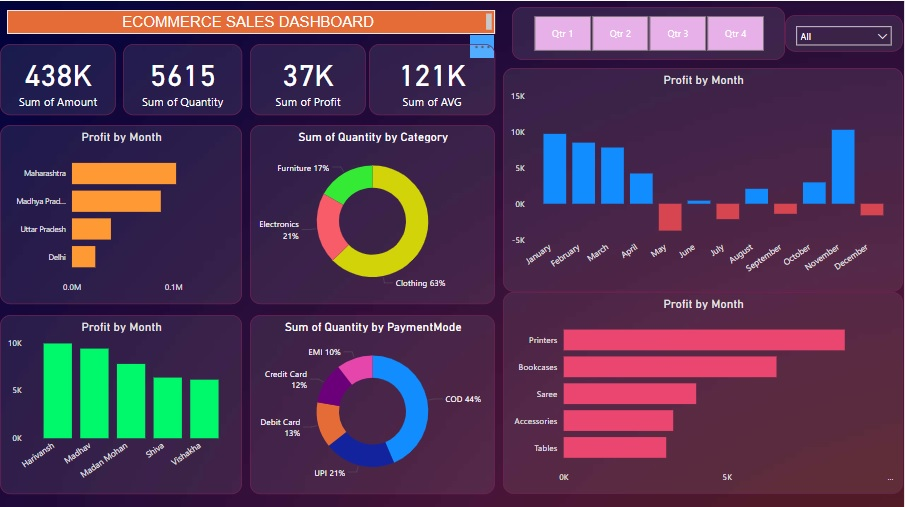

The dashboard page shown, as its layout file describes it:
{"tool":"powerbi","page":{"name":"Page 1","canvas":[1280,720],"ordinal":0},"visuals":[{"type":"textbox","box":[9.9,12.8,691.7,34],"z":0},{"type":"columnChart","title":"Profit by Month","fields":{"Category":["Orders.Order Date.Variation.Date Hierarchy.Month"],"Y":["Details.Profit"]},"box":[712.9,95,566.9,317.5],"z":1000},{"type":"barChart","title":"Profit by Month","fields":{"Y":["Details.Profit"],"Category":["Details.Sub-Category"]},"box":[712.9,412.4,566.9,286.3],"z":2000},{"type":"donutChart","fields":{"Y":["Details.Quantity"],"Category":["Details.PaymentMode"]},"box":[354.3,445,347.2,253.7],"z":3000},{"type":"donutChart","fields":{"Category":["Details.Category"],"Y":["Details.Quantity"]},"box":[354.3,175.7,347.2,253.7],"z":4000},{"type":"card","fields":{"Values":["Details.Amount"]},"box":[0,60.9,164.4,100.6],"z":5000},{"type":"card","fields":{"Values":["Details.Quantity"]},"box":[174.3,60.9,168.7,100.6],"z":6000},{"type":"card","fields":{"Values":["Details.Profit"]},"box":[354.3,60.9,164.4,100.6],"z":7000},{"type":"card","fields":{"Values":["Details.AVG"]},"box":[523,60.9,178.6,100.6],"z":8000},{"type":"barChart","title":"Profit by Month","fields":{"Category":["Orders.State"],"Y":["Details.Amount"]},"box":[0,175.7,343,253.7],"z":9000},{"type":"columnChart","title":"Profit by Month","fields":{"Category":["Orders.CustomerName"],"Y":["Details.Amount"]},"box":[0,445,343,253.7],"z":10000},{"type":"slicer","fields":{"Values":["Orders.Order Date.Variation.Date Hierarchy.Quarter"]},"box":[725.7,8.5,386.9,75.1],"z":11000},{"type":"slicer","fields":{"Values":["Orders.State"]},"box":[1112.6,19.8,167.2,52.4],"z":11001}]}

Visuals, with their boxes in screenshot pixels (x1, y1, x2, y2), scaled from the page's 1280x720 canvas onto the 905x507 screenshot:
textbox: 7:9:496:33
"Profit by Month" columnChart: 504:67:904:290
"Profit by Month" barChart: 504:290:904:492
donutChart - Details.Quantity x Details.PaymentMode: 251:313:496:492
donutChart - Details.Category x Details.Quantity: 251:124:496:302
card - Details.Amount: 0:43:116:114
card - Details.Quantity: 123:43:243:114
card - Details.Profit: 251:43:367:114
card - Details.AVG: 370:43:496:114
"Profit by Month" barChart: 0:124:243:302
"Profit by Month" columnChart: 0:313:243:492
slicer - Orders.Order Date.Variation.Date Hierarchy.Quarter: 513:6:787:59
slicer - Orders.State: 787:14:904:51
